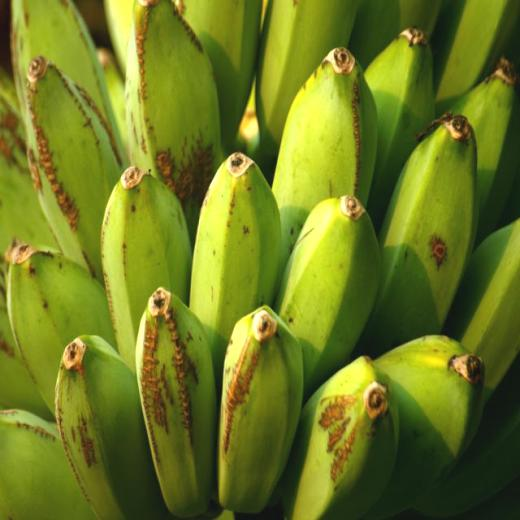Banana: (1, 0, 520, 519), (218, 306, 302, 512)
